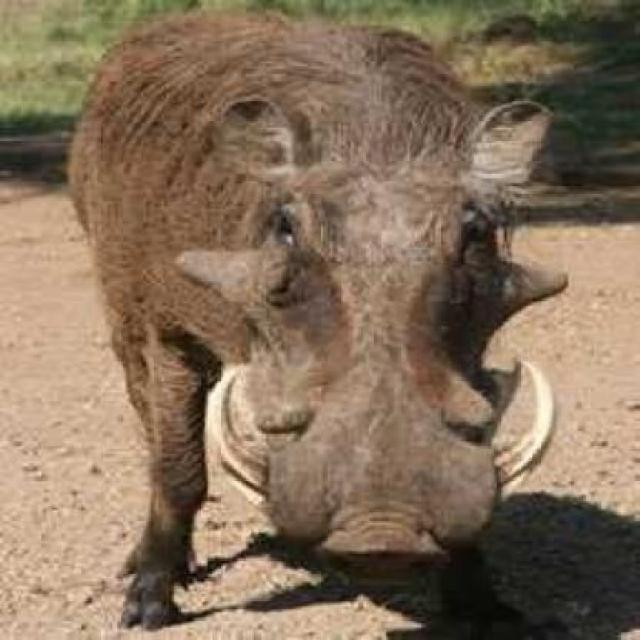Boar: (48, 6, 574, 619)
